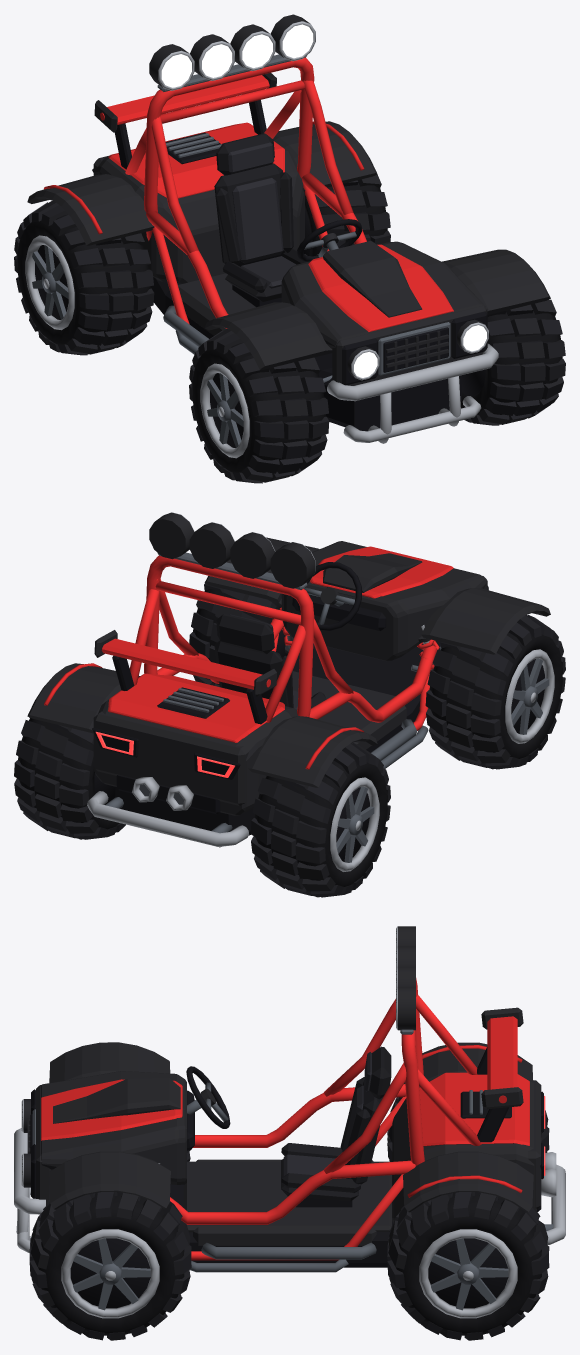
Rendered from OffroadKart.glb.
The picture shows the model from 3 angles, top to bottom: view 1: azimuth 30°, elevation 25°; view 2: azimuth 150°, elevation 25°; view 3: azimuth 270°, elevation 25°; orthographic projection. The views are drawn at different scales.
Parts seen in each view (by area): view 1: Wheel_FR, Wheel_RR, Wheel_FL, Rear_Engine_Deck, Front_Hood, Right_Front_Fender, Right_Rear_Fender, Undercarriage, Racing_Red_Hood_Stripe, Left_Front_Fender, Charcoal_Center_Cowl, Rear_Roll_Hoop (+35 smaller); view 2: Wheel_FR, Wheel_RR, Wheel_RL, Front_Hood, Rear_CharcoalFascia, Undercarriage, Rear_Red_Deck, Right_Rear_Fender, Right_Front_Fender, Left_Rear_Fender, Rear_Roll_Hoop, Spoiler_Red_Airfoil (+32 smaller); view 3: Wheel_FL, Wheel_RL, Cockpit_Floor, Front_Hood, Left_Rear_Fender, Left_Front_Fender, Rear_Red_Deck, Charcoal_Center_Cowl, Right_Front_Fender, Left_Side_Protection, Left_Lower_Side_Panel, Racing_Red_Hood_Stripe (+28 smaller).
Part boxes in pixels (x1,y1,x2,y2): Wheel_FR: (189,329,329,483); Wheel_RR: (14,201,154,355); Wheel_FL: (460,299,565,425); Rear_Engine_Deck: (94,141,304,283); Front_Hood: (281,241,485,348); Right_Front_Fender: (205,302,332,369); Right_Rear_Fender: (27,174,154,245); Undercarriage: (151,277,461,431); Racing_Red_Hood_Stripe: (308,244,453,332); Left_Front_Fender: (442,249,550,314); Charcoal_Center_Cowl: (323,240,422,317); Rear_Roll_Hoop: (144,57,314,240); Wheel_FR: (425,615,565,769); Wheel_RR: (250,743,390,897); Wheel_RL: (14,717,125,839); Front_Hood: (281,541,486,661); Rear_CharcoalFascia: (93,711,248,805); Undercarriage: (115,640,440,847); Rear_Red_Deck: (108,673,284,742); Right_Rear_Fender: (248,716,377,787); Right_Front_Fender: (421,588,550,654); Left_Rear_Fender: (27,663,139,733); Rear_Roll_Hoop: (144,555,314,716); Spoiler_Red_Airfoil: (101,638,262,689); Wheel_FL: (29,1192,191,1340); Wheel_RL: (387,1192,549,1340); Cockpit_Floor: (183,1161,391,1232); Front_Hood: (40,1071,186,1184); Left_Rear_Fender: (403,1151,533,1212); Left_Front_Fender: (49,1151,170,1209); Rear_Red_Deck: (419,1072,529,1146); Charcoal_Center_Cowl: (53,1078,180,1123); Right_Front_Fender: (49,1042,170,1082); Left_Side_Protection: (170,1160,415,1224); Left_Lower_Side_Panel: (193,1227,376,1245); Racing_Red_Hood_Stripe: (41,1079,182,1140).
Bounding box in the file's own units: 8 × 7.48 × 11.97.
